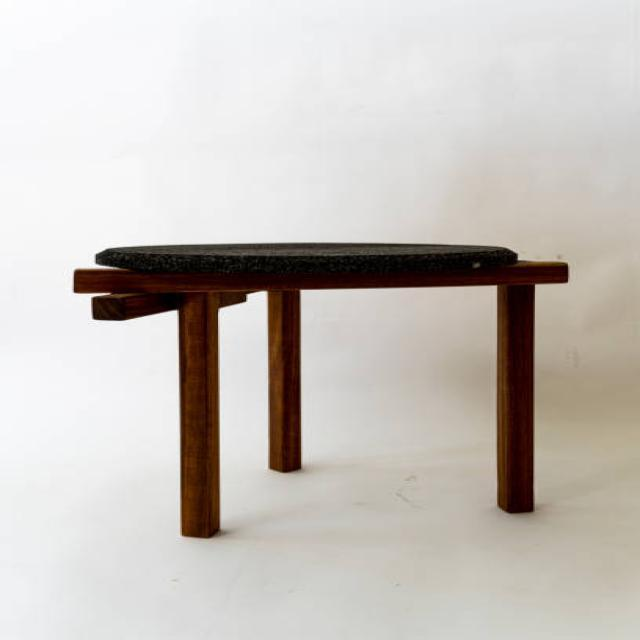table: (72, 242, 570, 538)
